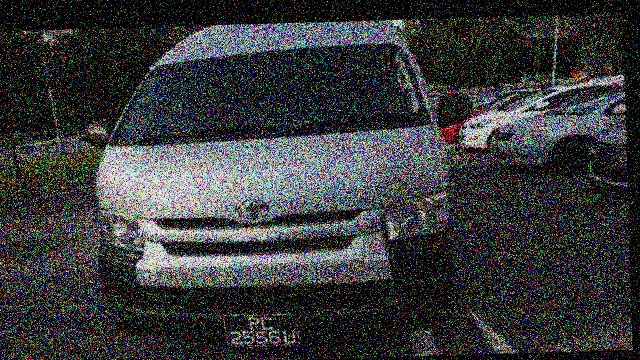van: (90, 18, 456, 348)
